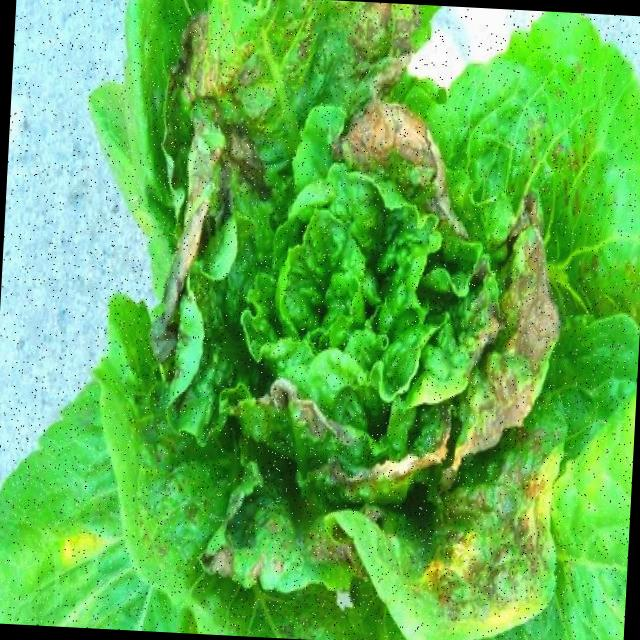Bacterial: (180, 0, 414, 162), (450, 198, 568, 452), (439, 470, 550, 625)
